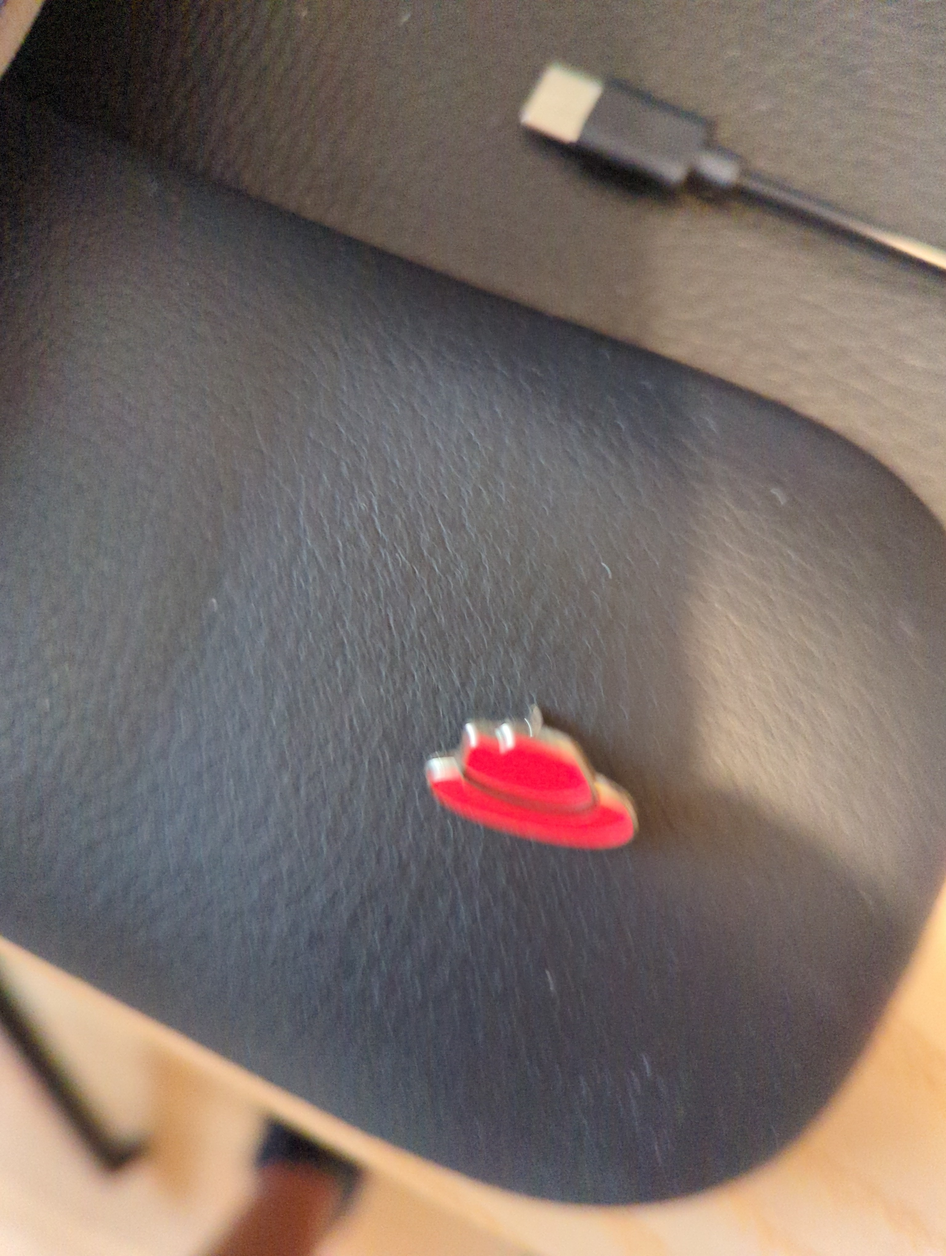Red-Hat: (353, 626, 724, 950)
